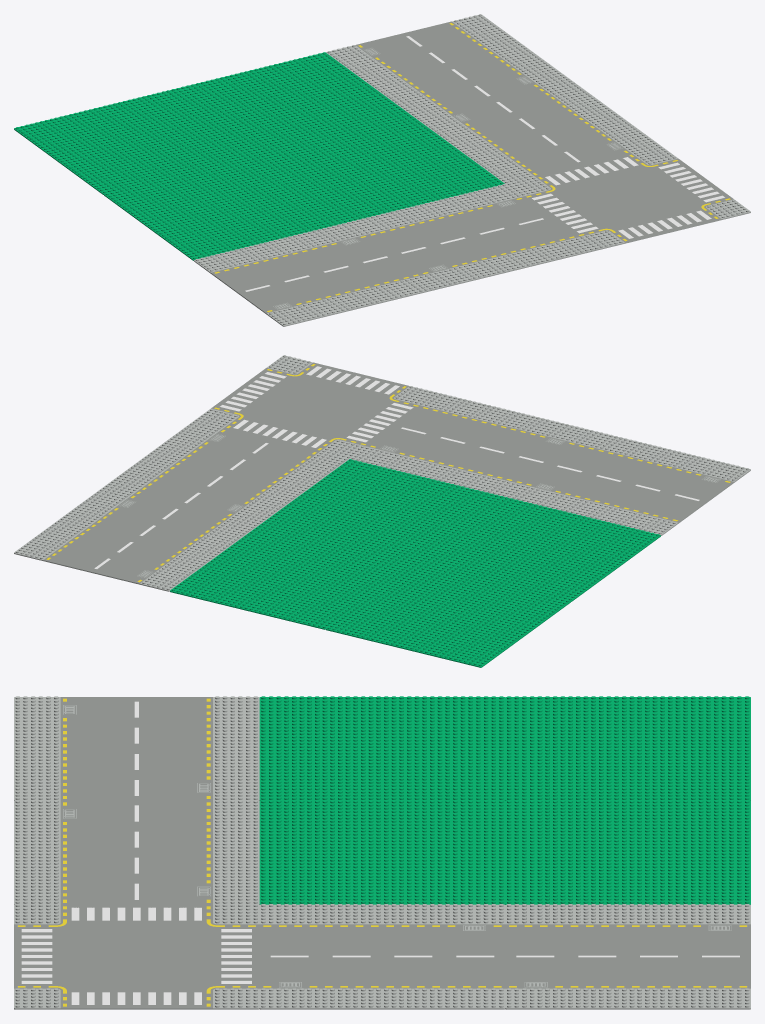
File: Ground_small(fixed).glb
3 renders of one model, top to bottom at view 1: azimuth 30°, elevation 25°; view 2: azimuth 150°, elevation 25°; view 3: azimuth 270°, elevation 25°, orthographic. The views are drawn at different scales.
Visible parts, largest first — view 1: Ground_small(fixed); view 2: Ground_small(fixed); view 3: Ground_small(fixed).
Boxes of the visible parts, left/top/right/bottom form: Ground_small(fixed): left=14, top=14, right=750, bottom=326; Ground_small(fixed): left=14, top=355, right=750, bottom=667; Ground_small(fixed): left=14, top=696, right=750, bottom=1009.
Size of the model in its own units: 1920 by 7.97 by 1920.
